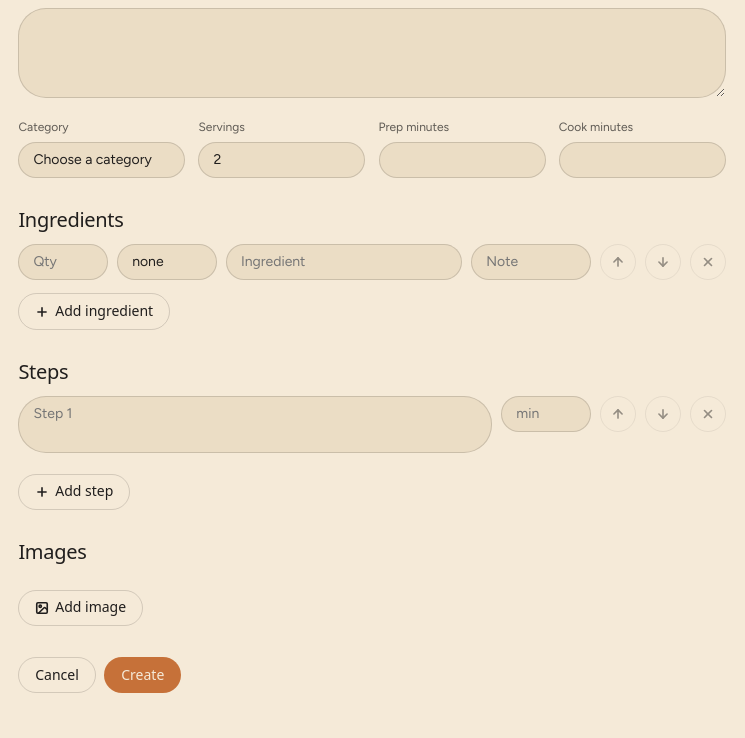
Test case: RecipeEditorScreen › UI-31 drops a message and its aria-invalid once the field is edited
This screenshot has width=745, height=738.
(page scrolled)
Click the button "Create".
click(143, 675)  # box [104,657,181,693]
(page scrolled)
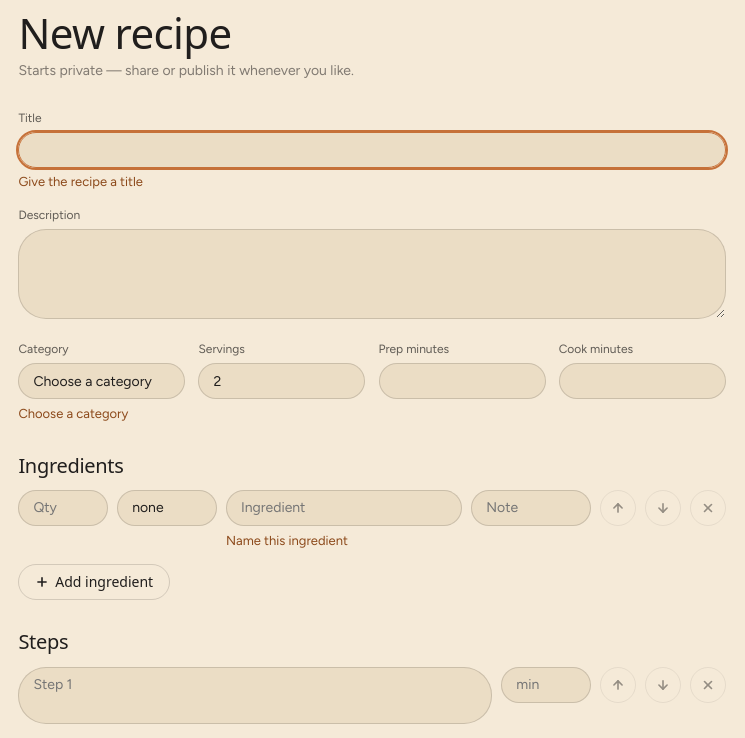
Result: the text "Give the recipe a title" is shown at [18,174,143,190]
Type "Shakshuka" into the field labelled "Title".
click(372, 150); type("Shakshuka")  # box [18,132,726,168]
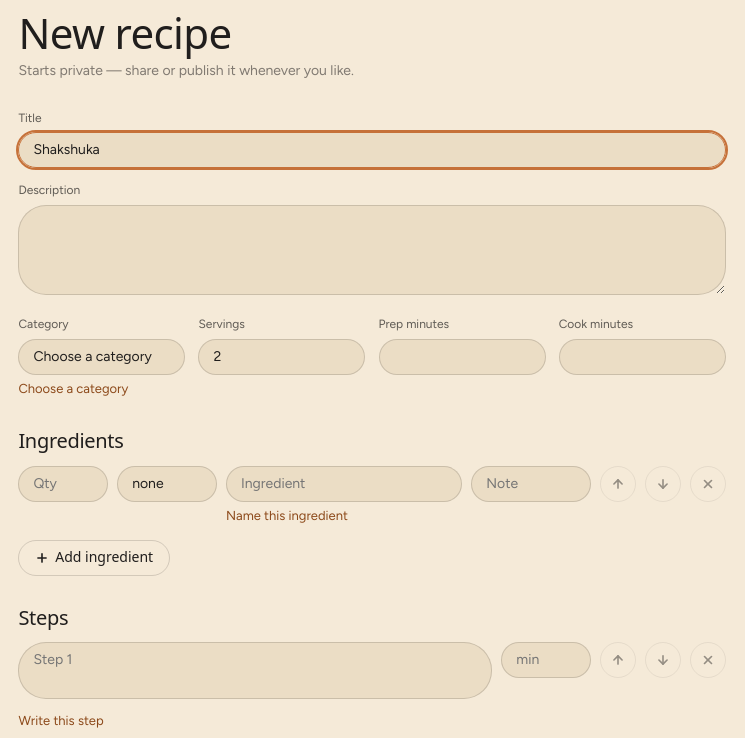
Result: the message "Name this ingredient" is shown at [226,508,348,523]
Result: the text "Give the recipe a title" is gone
